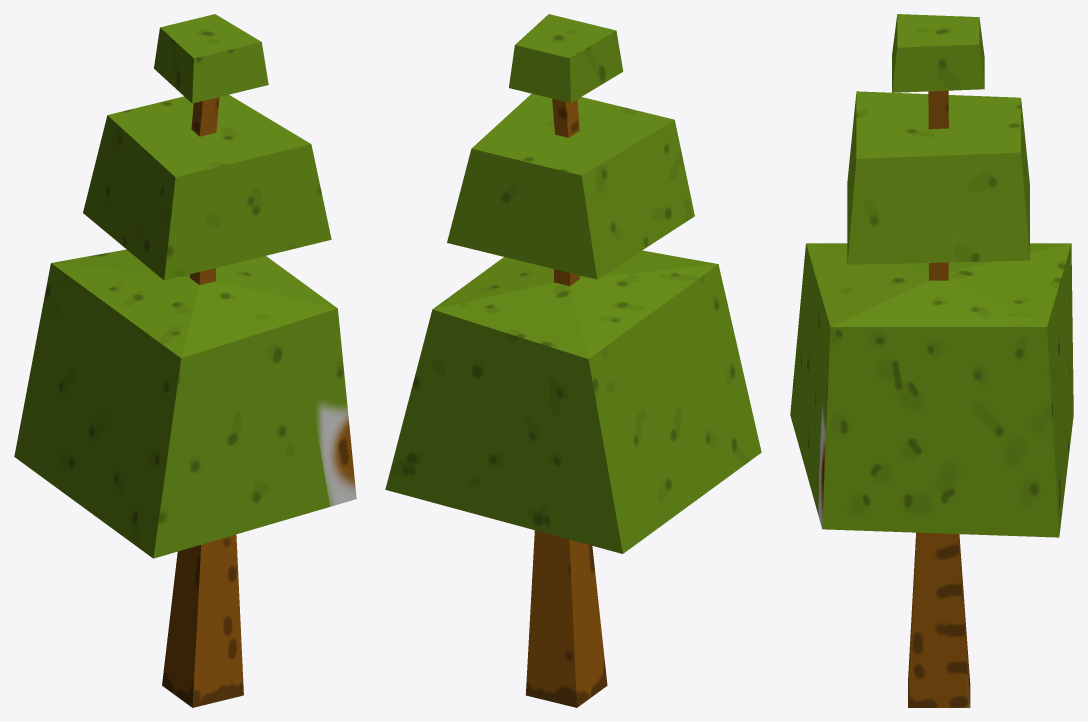
Rendered from tree-l.fbx.
3 views of the same model, side by side, from view 1: azimuth 30°, elevation 25°; view 2: azimuth 150°, elevation 25°; view 3: azimuth 270°, elevation 25° (orthographic). The views are drawn at different scales.
Parts seen in each view (by area): view 1: Cube; view 2: Cube; view 3: Cube.
Boxes of the visible parts, left/top/right/bottom form: Cube: left=14, top=14, right=356, bottom=707; Cube: left=385, top=14, right=761, bottom=707; Cube: left=790, top=14, right=1073, bottom=707.
Size of the model in its own units: 109 by 282 by 111.
